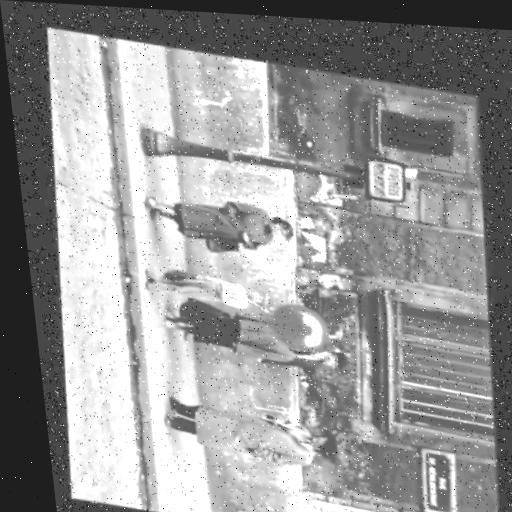balloon: (265, 293, 336, 350)
